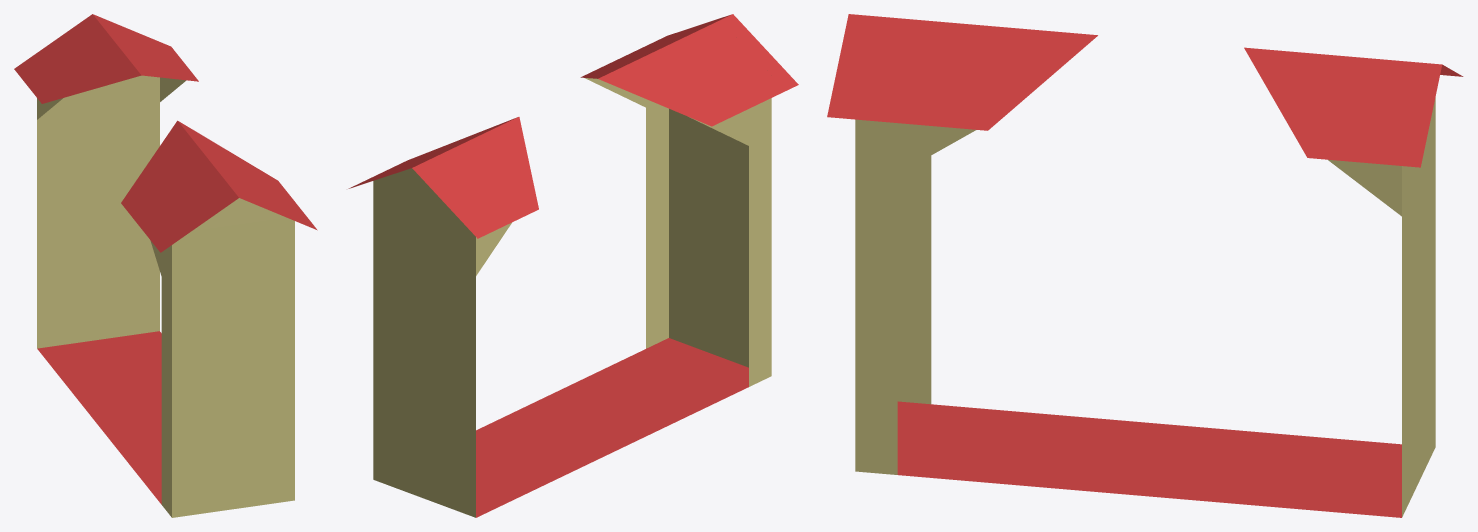
The picture shows the model from 3 angles, left to right: view 1: azimuth 30°, elevation 25°; view 2: azimuth 150°, elevation 25°; view 3: azimuth 270°, elevation 25°; orthographic projection. The views are drawn at different scales.
Size of the model in its own units: 6.96 by 13.26 by 9.65.
